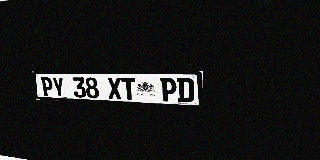plate: (32, 71, 203, 108)
